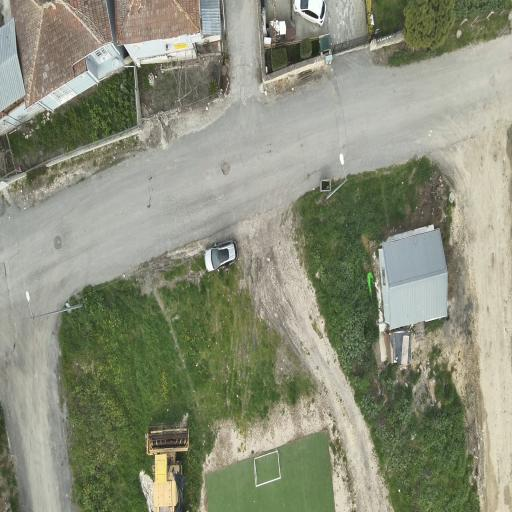car: (205, 240, 238, 271), (294, 0, 326, 27)
harvester: (147, 424, 189, 511)
